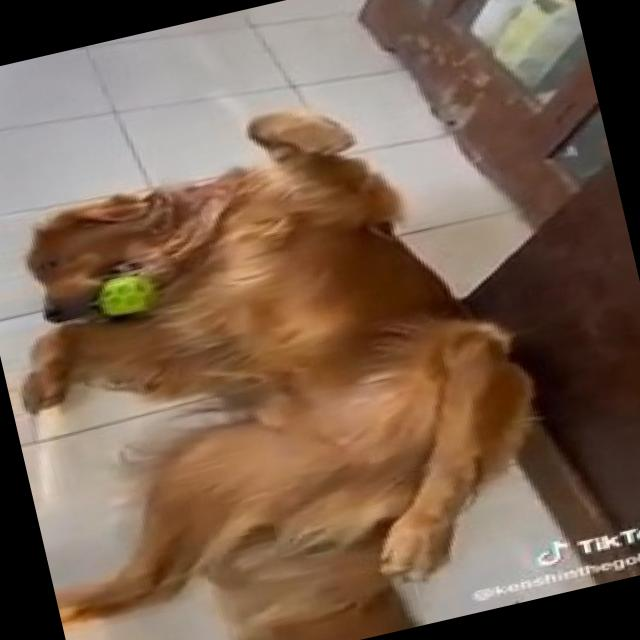dog: (1, 27, 563, 640)
